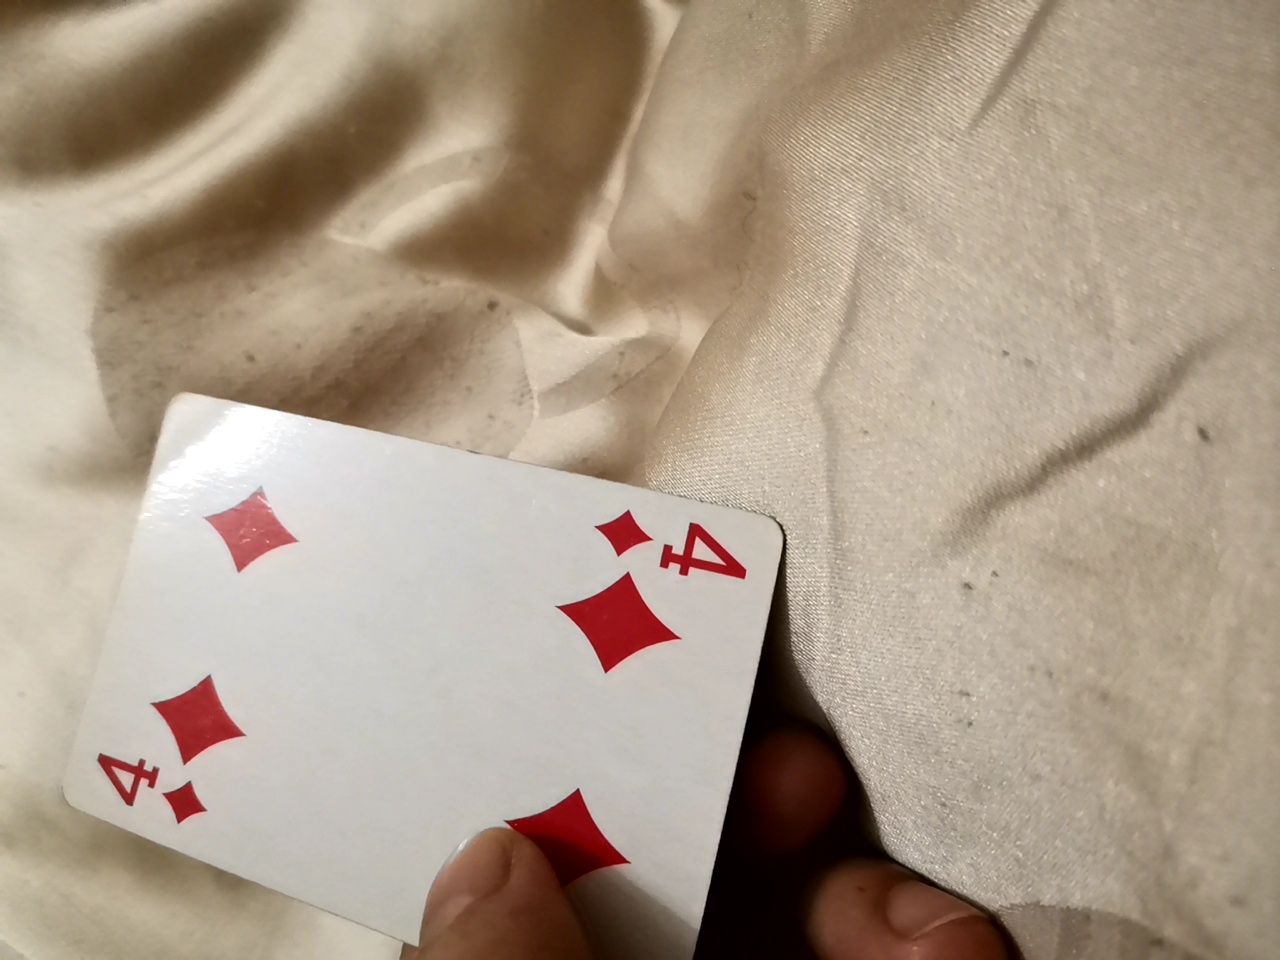fk 4: (65, 365, 800, 928)
